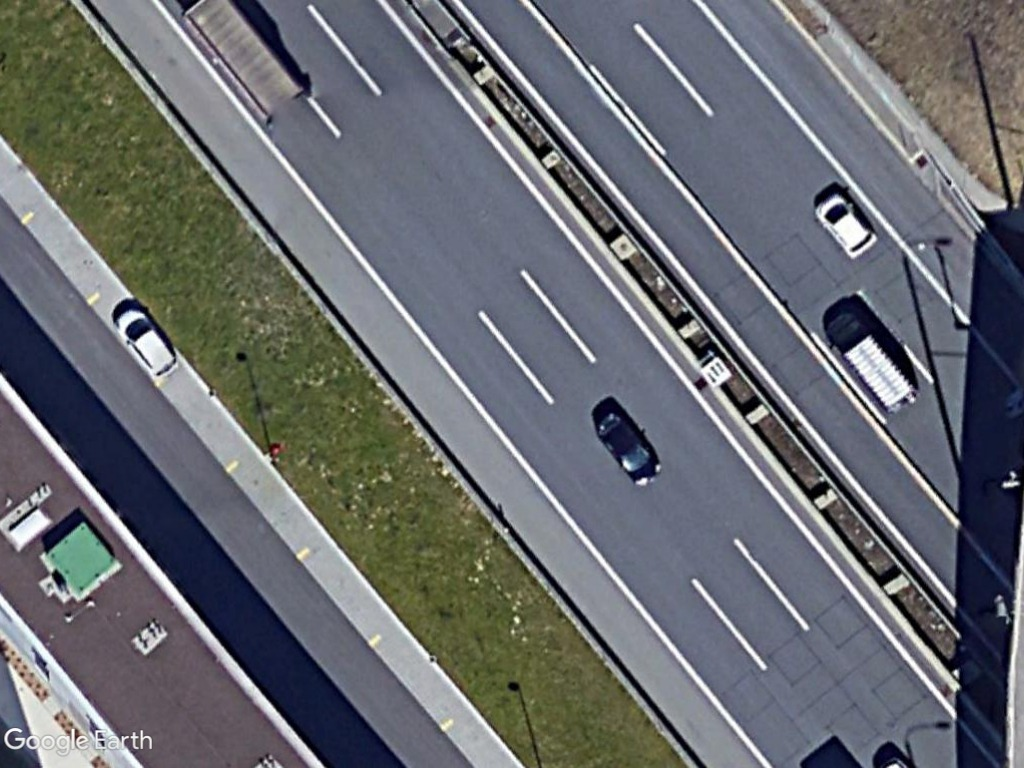car: (597, 411, 665, 487), (115, 307, 182, 382), (812, 191, 879, 258)
truck: (823, 313, 920, 413)
